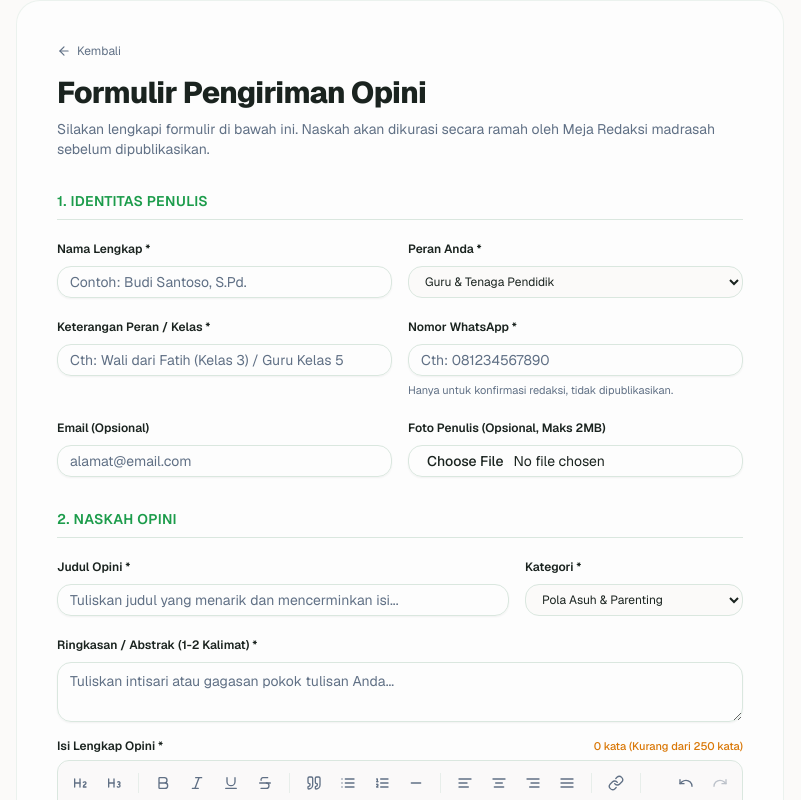
Test: OpiniSubmissionForm › handles successful form submission
Type "Budi Santoso" into the field labelled "Nama Lengkap *". click: (224, 282)
box: [57,266,392,298]
Type "Guru Kelas 5" into the field labelled "Keterangan Peran / Kelas *". click: (224, 360)
box: [57,344,392,376]
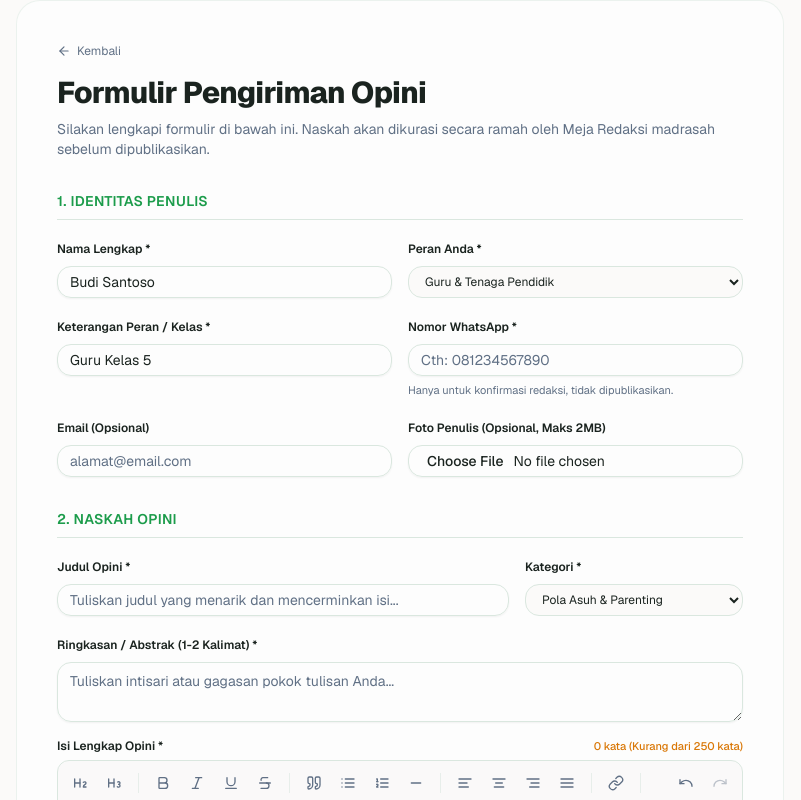
Type "08123456789" into the field labelled "Nomor WhatsApp *". click: (576, 360)
box: [408,344,743,376]
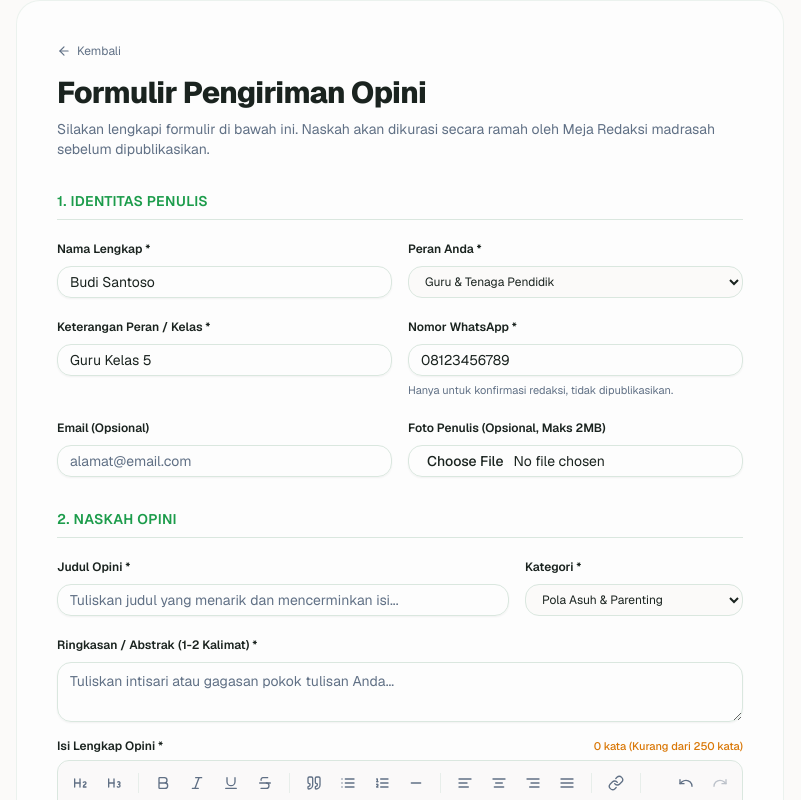
Type "Judul Keren" into the field labelled "Judul Opini *". click: (283, 600)
box: [57,584,509,616]
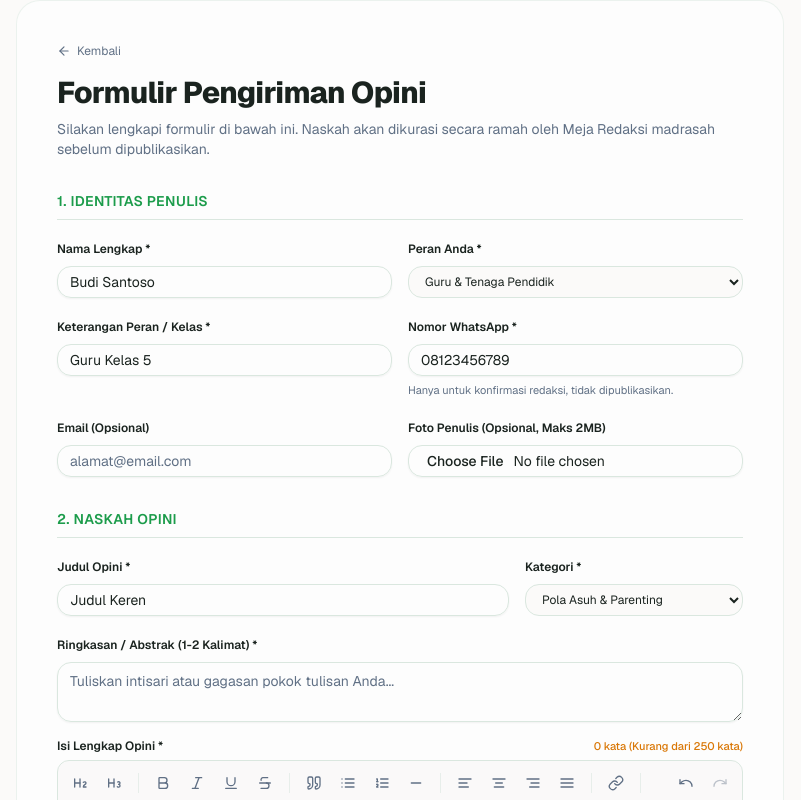
Type "Ringkasan tulisan" into the text box labelled "Ringkasan / Abstrak (1-2 Kalimat) *". click: (400, 692)
box: [57,662,743,722]
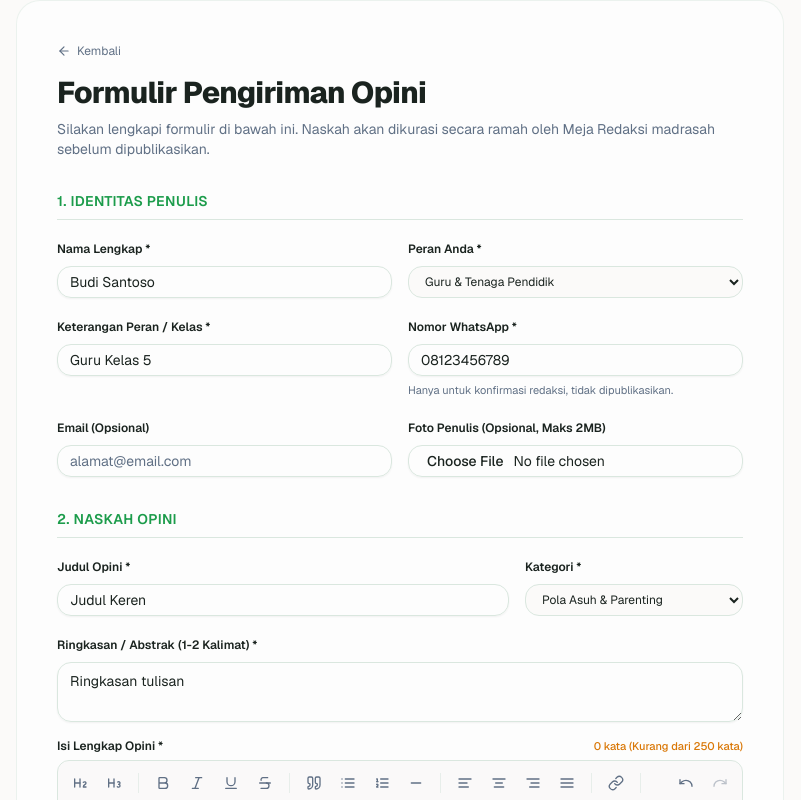
Replace the text in the text box labelled "Isi Lengkap Opini *" with "Isi tulisan lengkap". click: (110, 746)
box: [57,738,163,754]
(page scrolled)
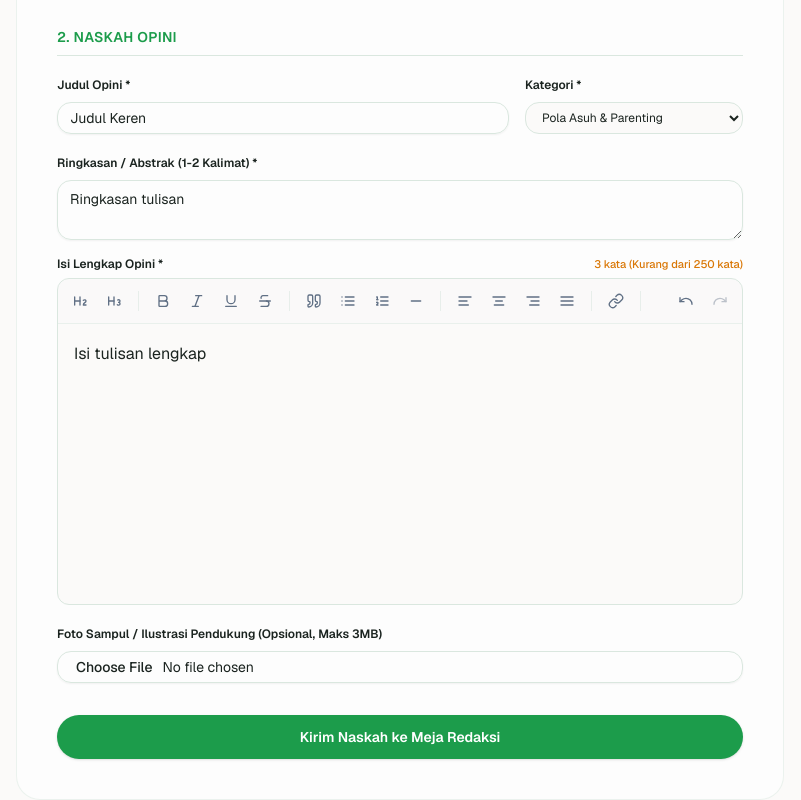
Click the button "Kirim Naskah ke Meja Redaksi". click: (400, 737)
box: [57,715,743,759]
(page scrolled)
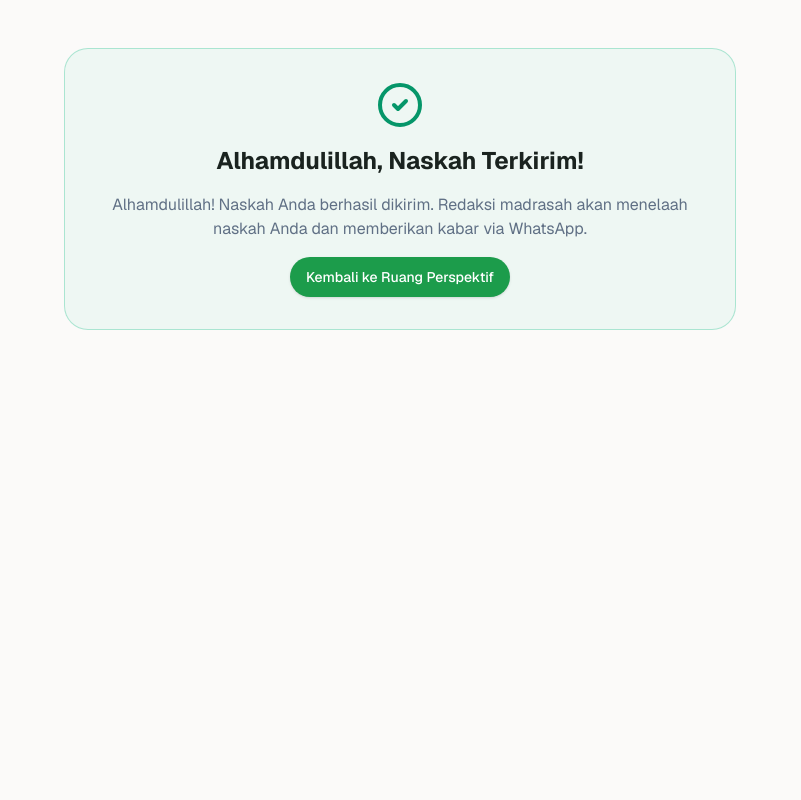
Result: the heading "Alhamdulillah, Naskah Terkirim!" is shown at [216,145,584,176]
Result: the text "Alhamdulillah! Naskah Anda berhasil dikirim" is shown at [112,194,434,215]
